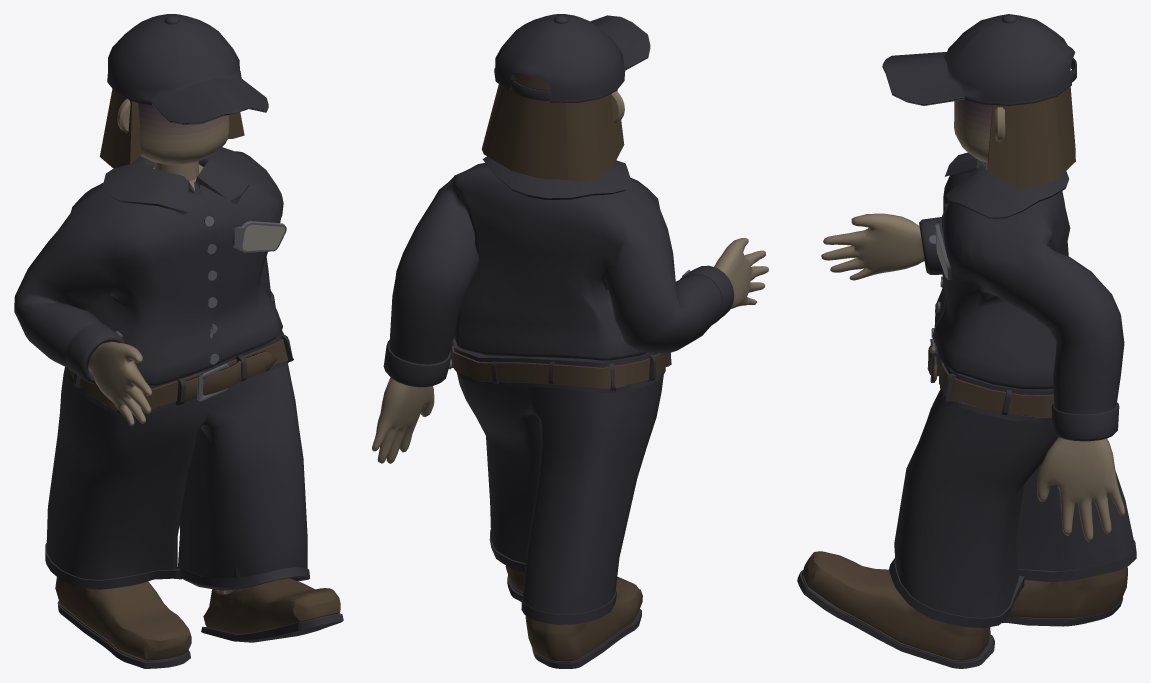
File: TempGuard_Walk.fbx
3 renders of one model, left to right at view 1: azimuth 30°, elevation 25°; view 2: azimuth 150°, elevation 25°; view 3: azimuth 270°, elevation 25°, orthographic. The views are drawn at different scales.
Visible parts, largest first — view 1: walk; view 2: walk; view 3: walk.
Part boxes in pixels (x1,y1,x2,y2): walk: (14, 14, 343, 668); walk: (372, 14, 768, 668); walk: (797, 14, 1136, 668).
Bounding box in the file's own units: 73.01 × 153 × 76.19.
